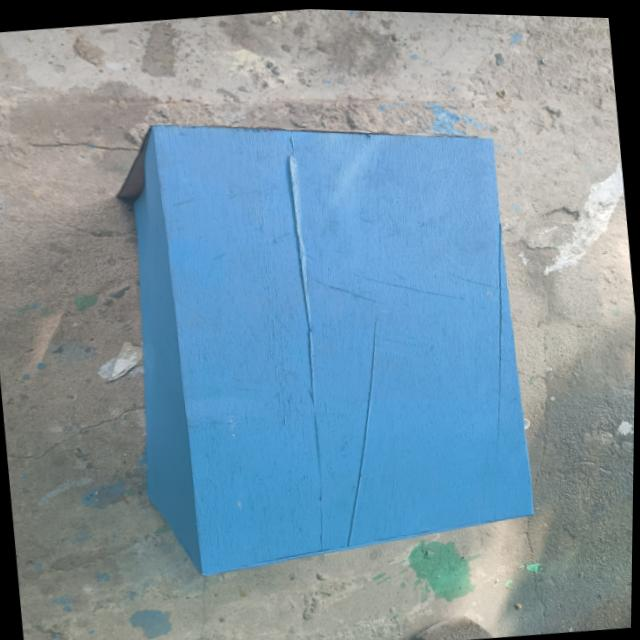blue_box: (96, 57, 551, 578)
green_buoy: (309, 82, 316, 112)
